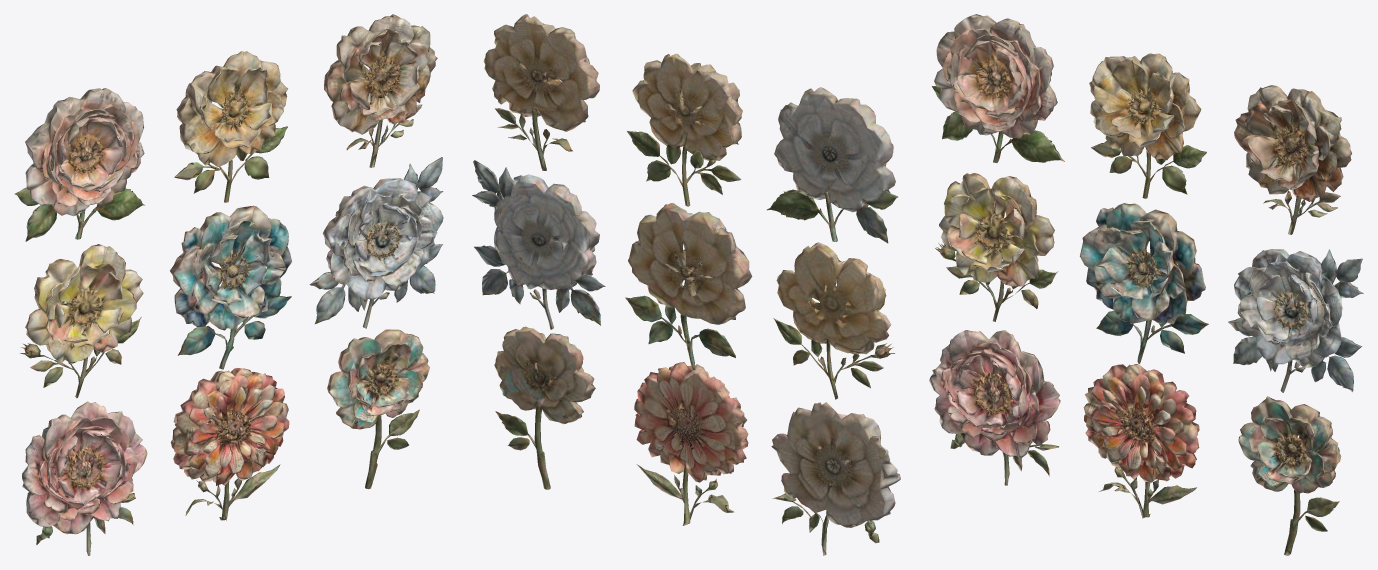
The picture shows the model from 3 angles, left to right: view 1: azimuth 30°, elevation 25°; view 2: azimuth 150°, elevation 25°; view 3: azimuth 330°, elevation 25°; orthographic projection.
Visible parts, largest first — view 1: Mesh 15, Mesh 1, Mesh 11, Mesh 2, Mesh 9, Mesh 3, Mesh 10, Mesh 18, Mesh 16; view 2: Mesh 15, Mesh 1, Mesh 11, Mesh 2, Mesh 9, Mesh 10, Mesh 3, Mesh 18, Mesh 16; view 3: Mesh 1, Mesh 15, Mesh 11, Mesh 2, Mesh 9, Mesh 3, Mesh 10, Mesh 18, Mesh 16.
Boxes of the visible parts, x1,y1,x2,y2 form: Mesh 15: [309, 157, 443, 328]; Mesh 1: [15, 88, 144, 241]; Mesh 11: [170, 205, 291, 369]; Mesh 2: [22, 401, 147, 555]; Mesh 9: [170, 368, 289, 520]; Mesh 3: [20, 244, 143, 398]; Mesh 10: [174, 51, 287, 202]; Mesh 18: [324, 14, 437, 167]; Mesh 16: [327, 329, 429, 489]; Mesh 15: [472, 160, 605, 329]; Mesh 1: [767, 87, 897, 243]; Mesh 11: [625, 203, 752, 369]; Mesh 2: [771, 402, 900, 555]; Mesh 9: [634, 362, 748, 525]; Mesh 10: [627, 53, 742, 206]; Mesh 3: [773, 242, 894, 399]; Mesh 18: [483, 14, 599, 170]; Mesh 16: [494, 326, 595, 489]; Mesh 1: [932, 14, 1064, 162]; Mesh 15: [1228, 249, 1363, 392]; Mesh 11: [1079, 203, 1208, 363]; Mesh 2: [929, 330, 1060, 485]; Mesh 9: [1083, 364, 1199, 518]; Mesh 3: [935, 173, 1058, 321]; Mesh 10: [1089, 53, 1206, 198]; Mesh 18: [1234, 85, 1351, 234]; Mesh 16: [1238, 396, 1341, 555].
Bounding box in the file's own units: 1.82 × 1.91 × 0.1532.
9 materials, 9 textured.
